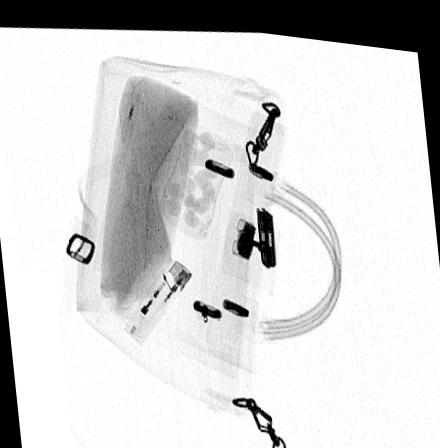Lighter: (123, 254, 193, 339)
